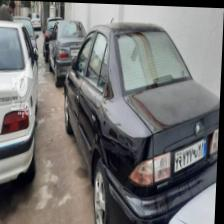plate: (175, 133, 209, 170), (71, 47, 80, 54)
